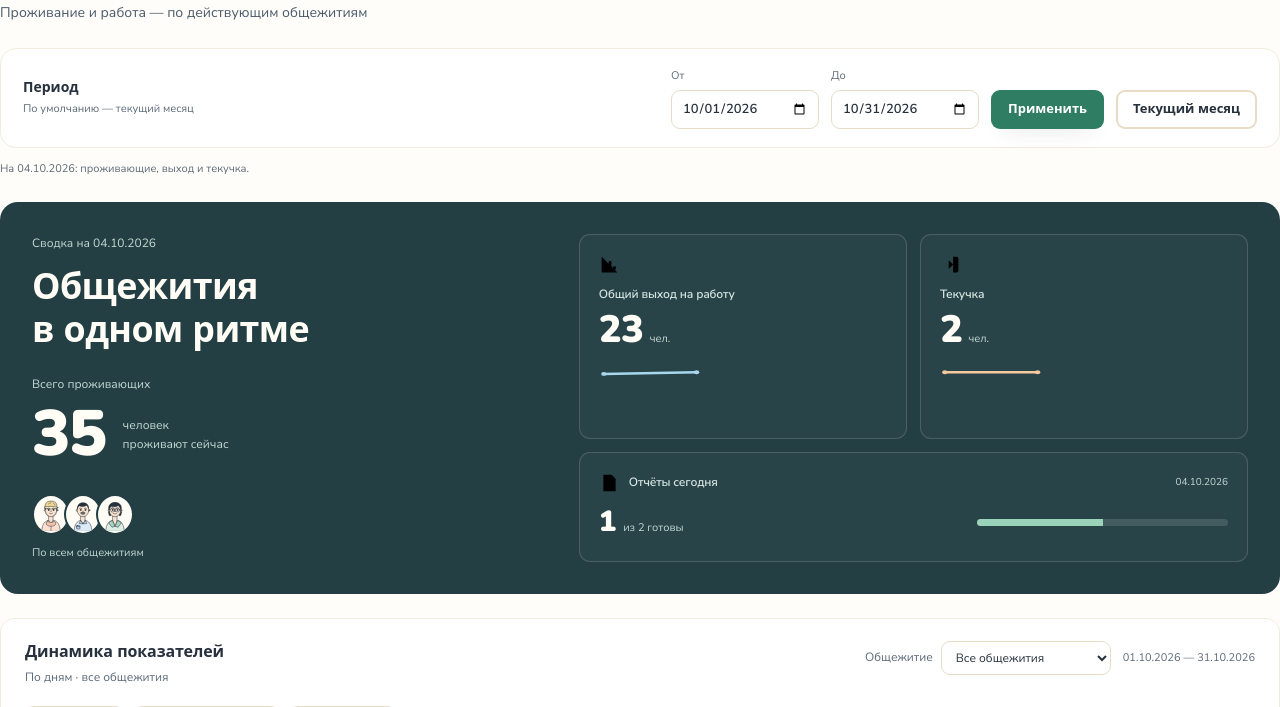
Test case: дашборд › ошибка графика отдельного общежития сохраняет общую сводку и допускает повтор
This screenshot has width=1280, height=707.
Expected: the text with test id "dashboard-total-residents" reads "35", [32, 390, 106, 478]
Select "Северное" in the dropdown labelled "Общежитие" at (1026, 658), box [941, 641, 1111, 675]
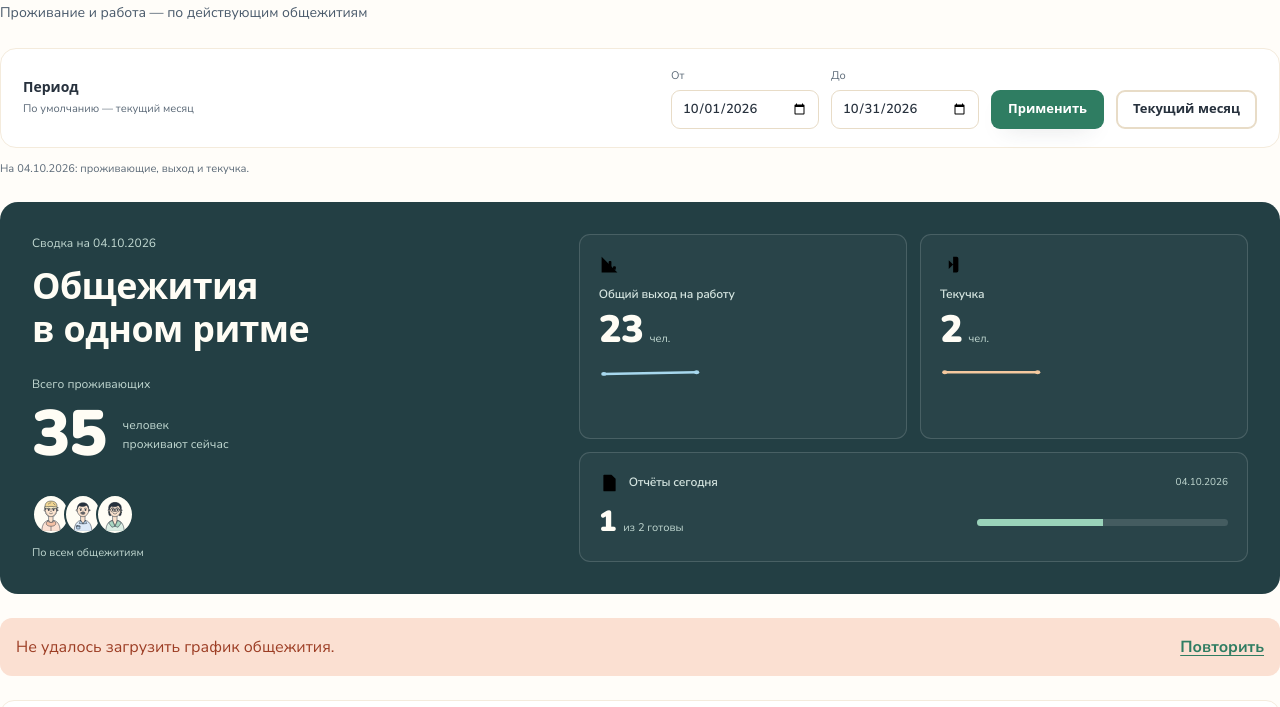
Expected: the element with test id "dashboard-total-attendance" shows "23", [599, 304, 643, 355]
Expected: the message shows "Не удалось загрузить график общежития", [16, 636, 334, 658]
Click the button "Повторить" at (1222, 647), box [1180, 634, 1264, 660]
(page scrolled)
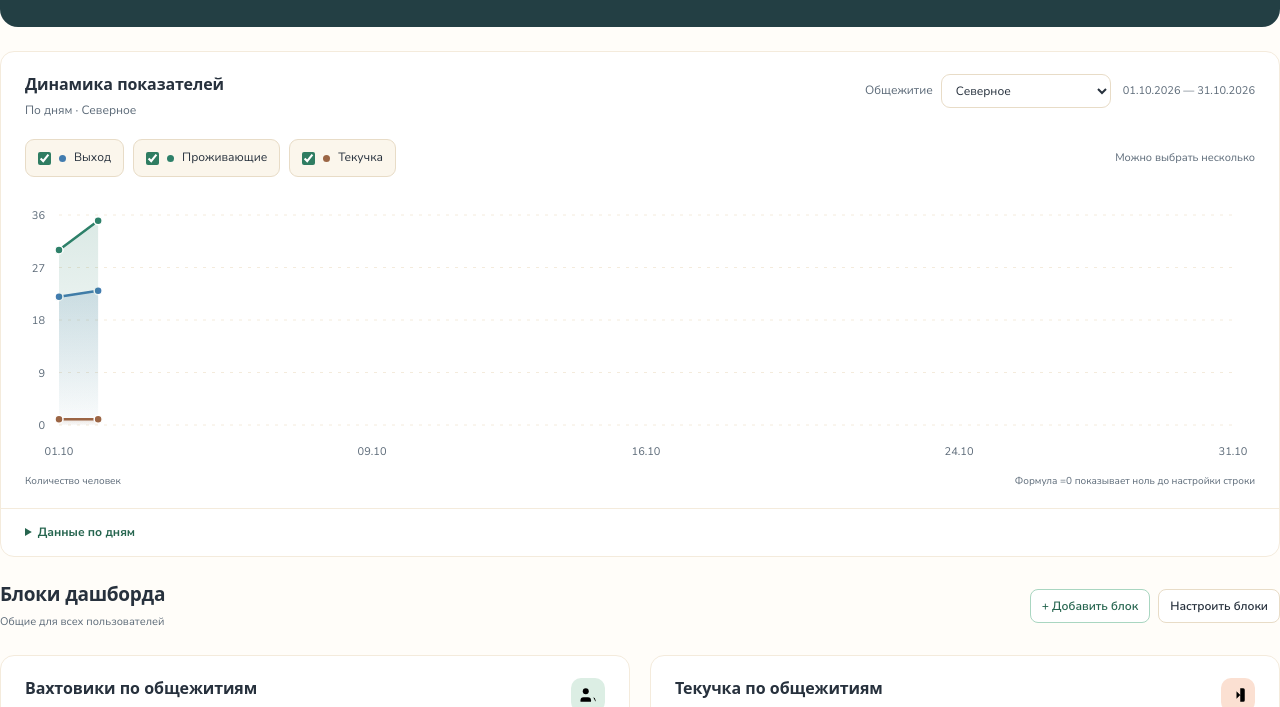
Expected: the message "Не удалось загрузить график общежития. Повторить" is gone
